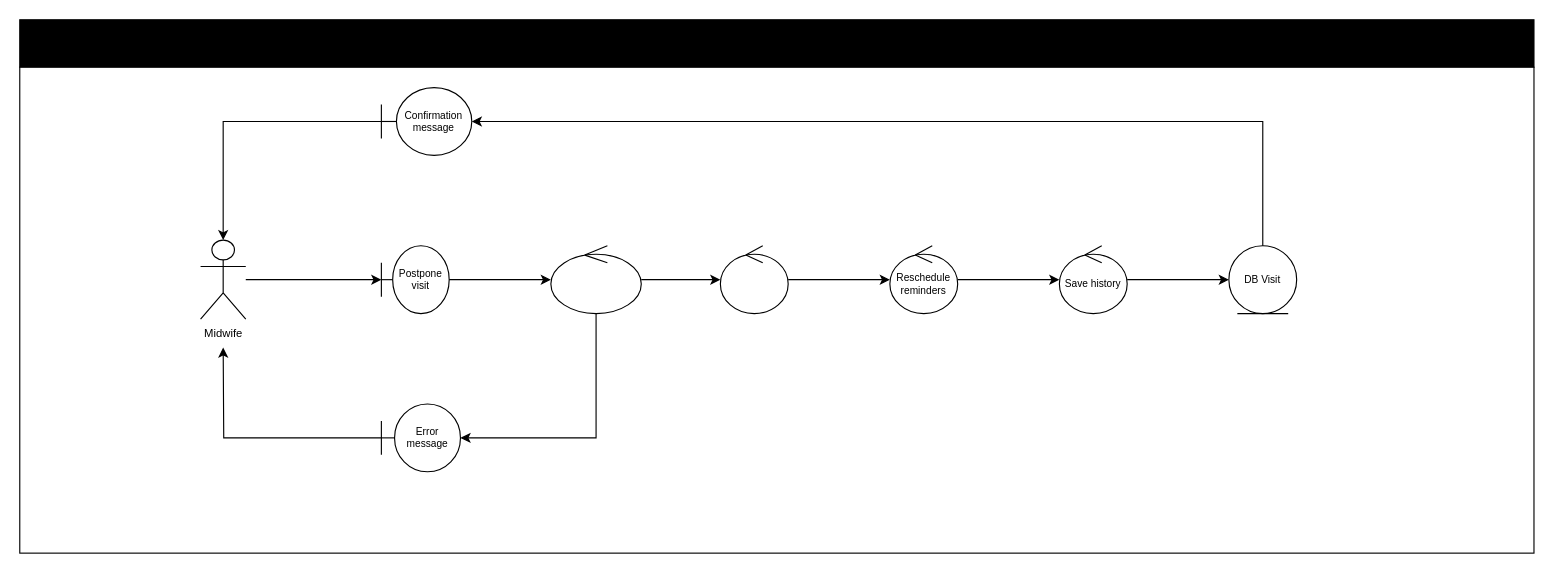
Some shapes in this 1554 by 573 pixel diagram are drawn without their labels. Each missing label, with the box of its shape:
RD-03-01-Visit-Postpone-Visit: (19, 19, 1534, 67)
Update visit: (719, 245, 788, 314)
Validate new date: (550, 245, 641, 314)
